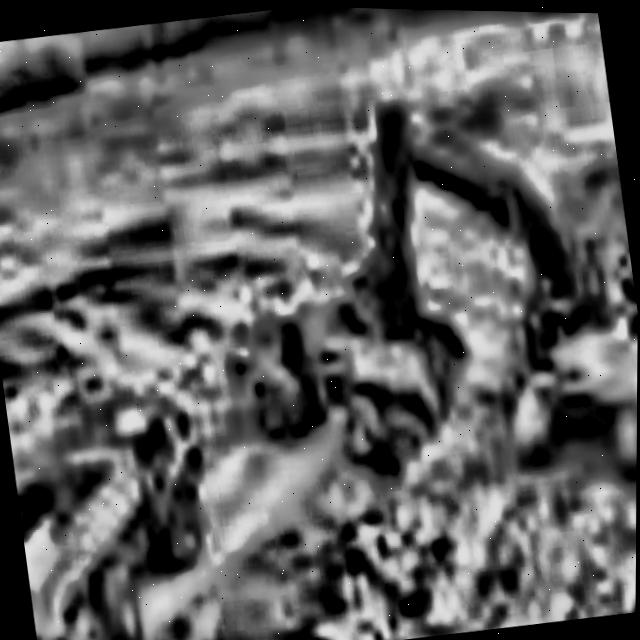dump_truck: (2, 363, 234, 640)
